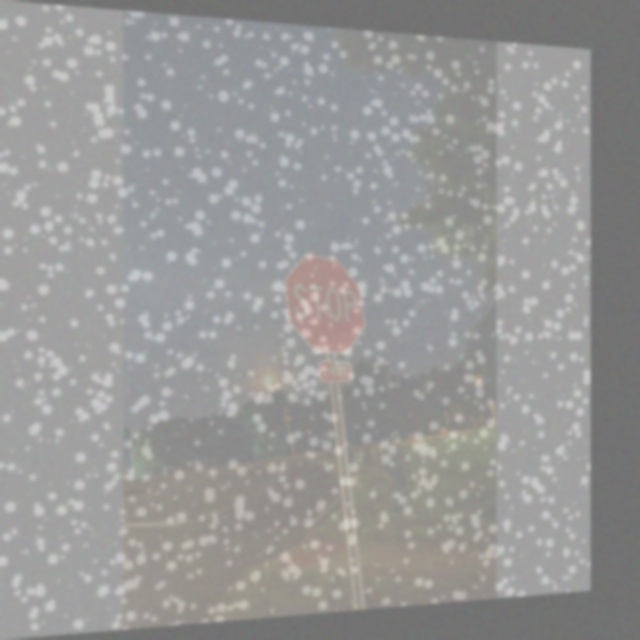Stop: (284, 253, 366, 356)
